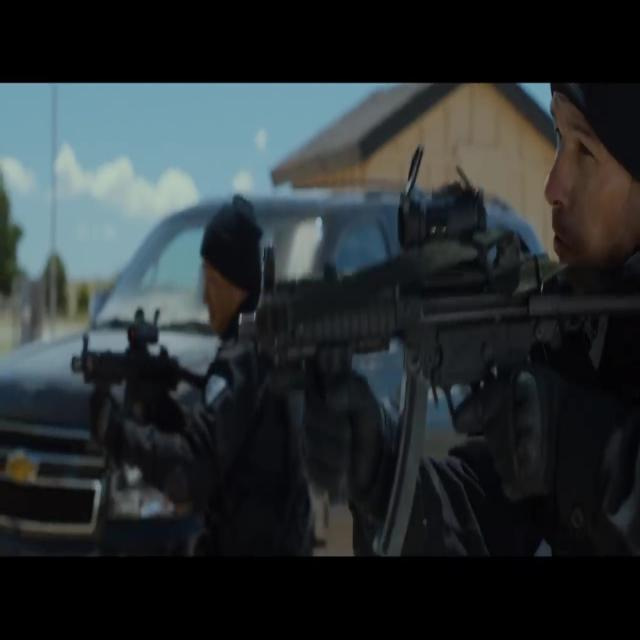Weapon: (222, 152, 639, 572), (63, 296, 220, 475)
